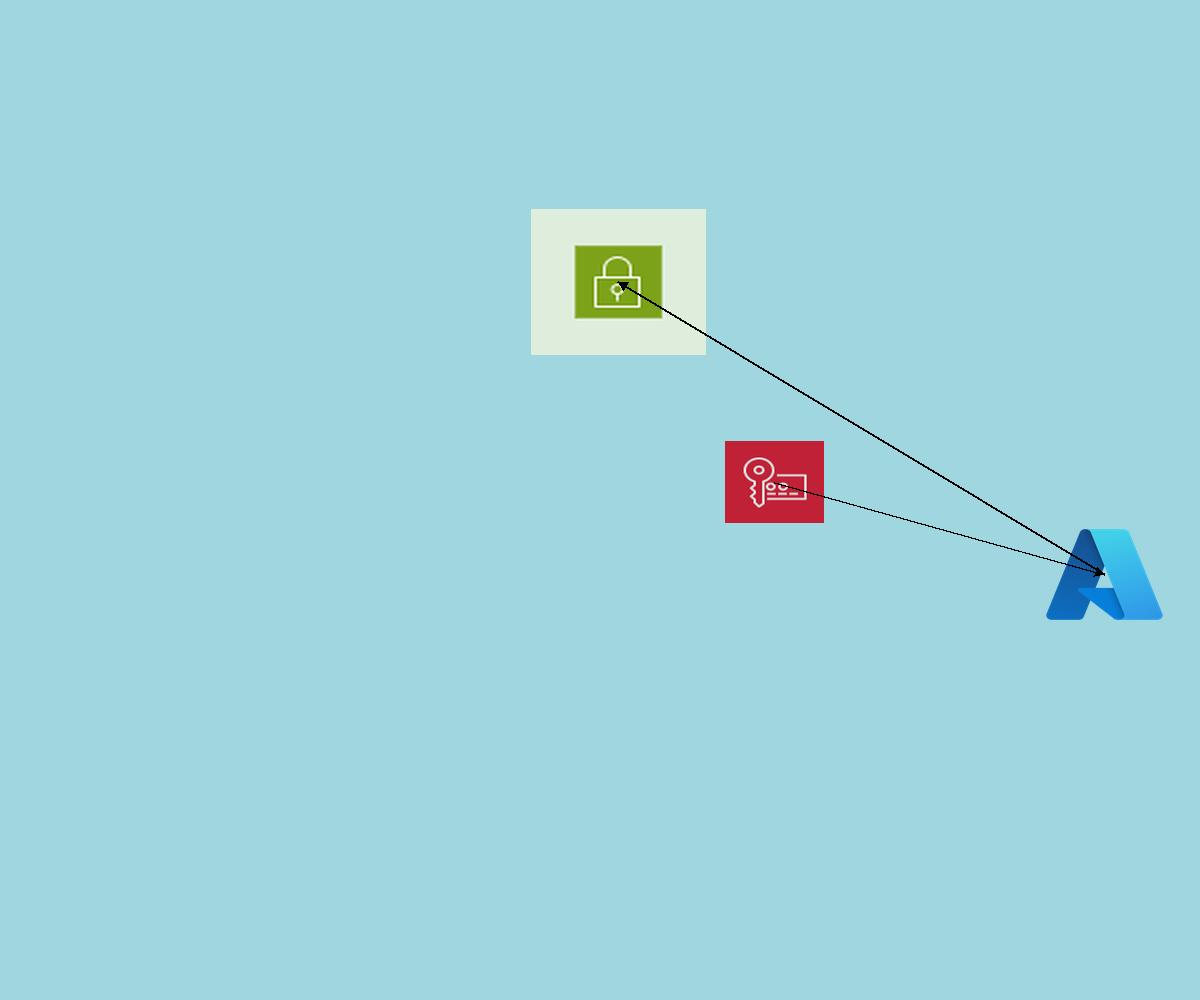AWS-Key-Management-Service: (725, 441, 824, 523)
AWS-Public-subnet: (531, 209, 706, 355)
Azure_services: (1041, 522, 1168, 627)
